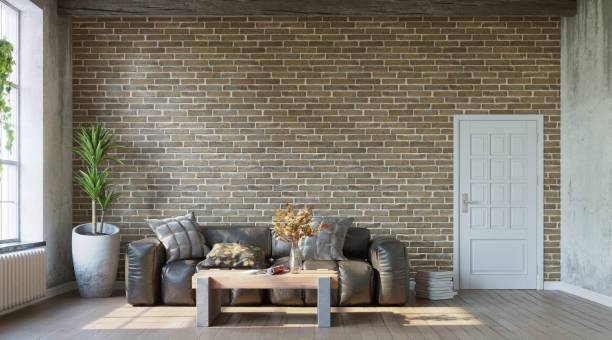flower vase: (271, 202, 323, 272)
large plant: (68, 117, 123, 299)
sofa: (124, 210, 412, 308)
table: (190, 267, 341, 329)
